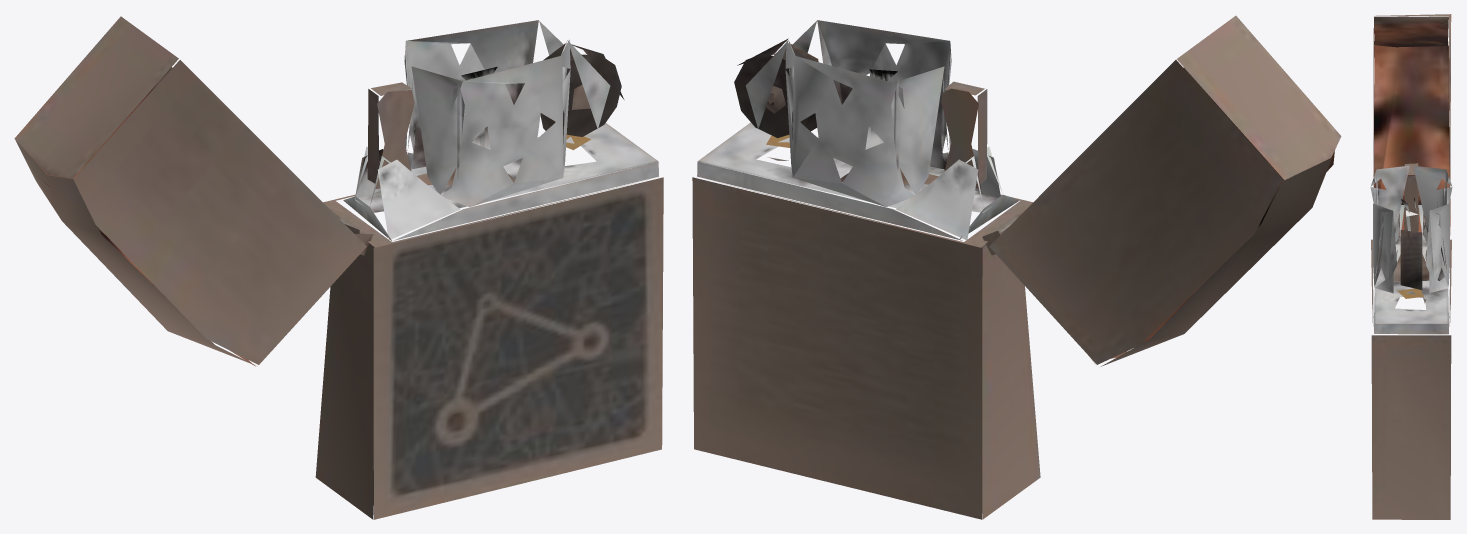
File: vintage_lighter.glb
3 renders of one model, left to right at view 1: azimuth 30°, elevation 25°; view 2: azimuth 150°, elevation 25°; view 3: azimuth 270°, elevation 25°, orthographic. The views are drawn at different scales.
Visible parts, largest first — view 1: vintage_lighter_body; view 2: vintage_lighter_body; view 3: vintage_lighter_body.
Part boxes in pixels (bbox=[...]): vintage_lighter_body: bbox=[14, 16, 663, 519]; vintage_lighter_body: bbox=[692, 15, 1341, 519]; vintage_lighter_body: bbox=[1370, 14, 1452, 519].
Bounding box in the file's own units: 0.0802 × 0.0646 × 0.0139.
2 materials, 2 textured.
